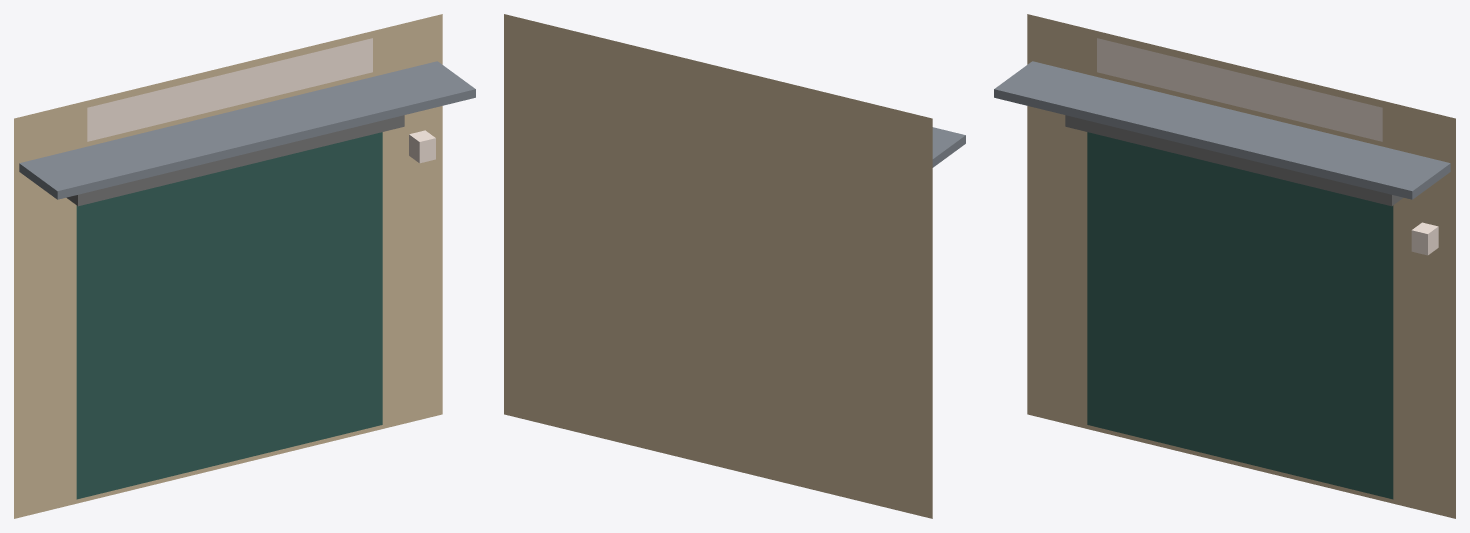
The model's file is entrance.fbx.
3 renders of one model, left to right at view 1: azimuth 30°, elevation 25°; view 2: azimuth 150°, elevation 25°; view 3: azimuth 330°, elevation 25°, orthographic.
Visible parts, largest first — view 1: a2004/500/entrance; view 2: a2004/500/entrance; view 3: a2004/500/entrance.
Part boxes in pixels (x1=…): a2004/500/entrance: x1=14, y1=14, x2=475, y2=518; a2004/500/entrance: x1=504, y1=14, x2=965, y2=518; a2004/500/entrance: x1=994, y1=14, x2=1455, y2=518.
Bounding box in the file's own units: 4.2 × 3.75 × 0.65.
